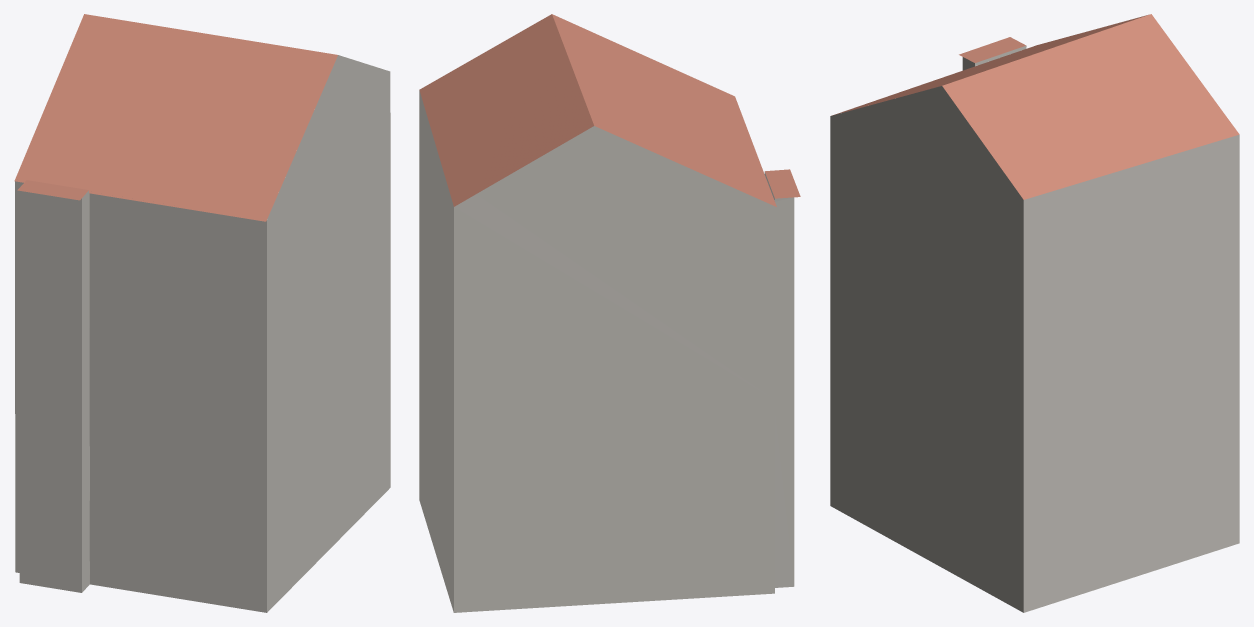
The picture shows the model from 3 angles, left to right: view 1: azimuth 30°, elevation 25°; view 2: azimuth 150°, elevation 25°; view 3: azimuth 270°, elevation 25°; orthographic projection.
Visible parts, largest first — view 1: swisstopo:swissbuildings3d:743fb1b4-6a75-4791-9d4f-d65b6fe99; view 2: swisstopo:swissbuildings3d:743fb1b4-6a75-4791-9d4f-d65b6fe99; view 3: swisstopo:swissbuildings3d:743fb1b4-6a75-4791-9d4f-d65b6fe99.
Boxes of the visible parts, x1,y1,x2,y2 form: swisstopo:swissbuildings3d:743fb1b4-6a75-4791-9d4f-d65b6fe99: (14, 14, 390, 612); swisstopo:swissbuildings3d:743fb1b4-6a75-4791-9d4f-d65b6fe99: (419, 14, 800, 612); swisstopo:swissbuildings3d:743fb1b4-6a75-4791-9d4f-d65b6fe99: (830, 14, 1239, 612).
Size of the model in its own units: 20.09 by 24.53 by 18.93.
